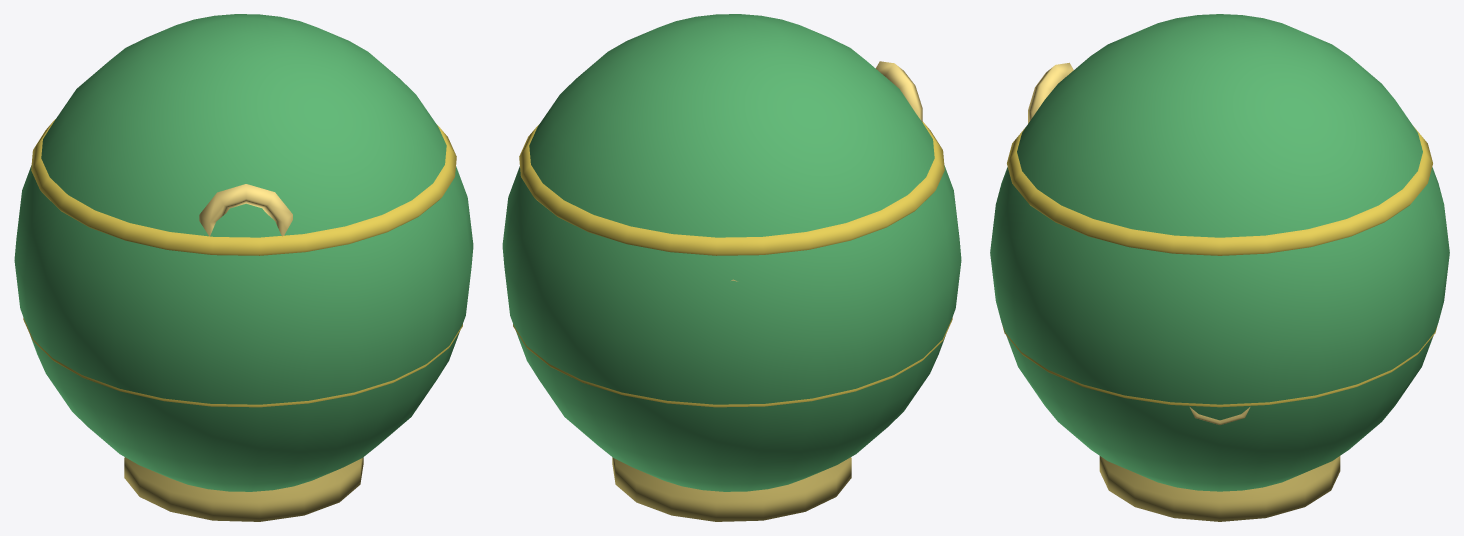
The model's file is egg_jungle_01.glb.
3 views of the same model, side by side, from view 1: azimuth 30°, elevation 25°; view 2: azimuth 150°, elevation 25°; view 3: azimuth 270°, elevation 25° (orthographic).
Visible parts, largest first — view 1: ball; view 2: ball; view 3: ball.
Part boxes in pixels (x1=…): ball: x1=14, y1=14, x2=473, y2=521; ball: x1=502, y1=14, x2=961, y2=521; ball: x1=990, y1=14, x2=1449, y2=521.
Size of the model in its own units: 0.84 by 0.88 by 0.84.
